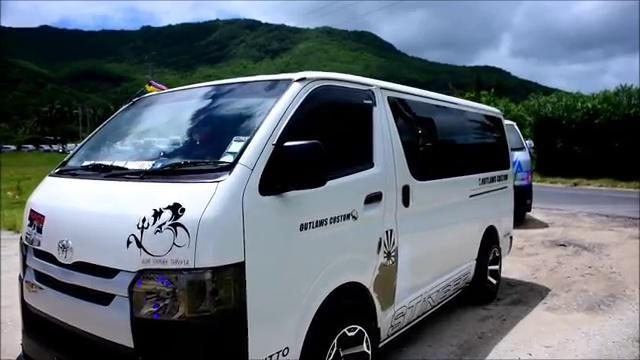van: (16, 69, 529, 360)
